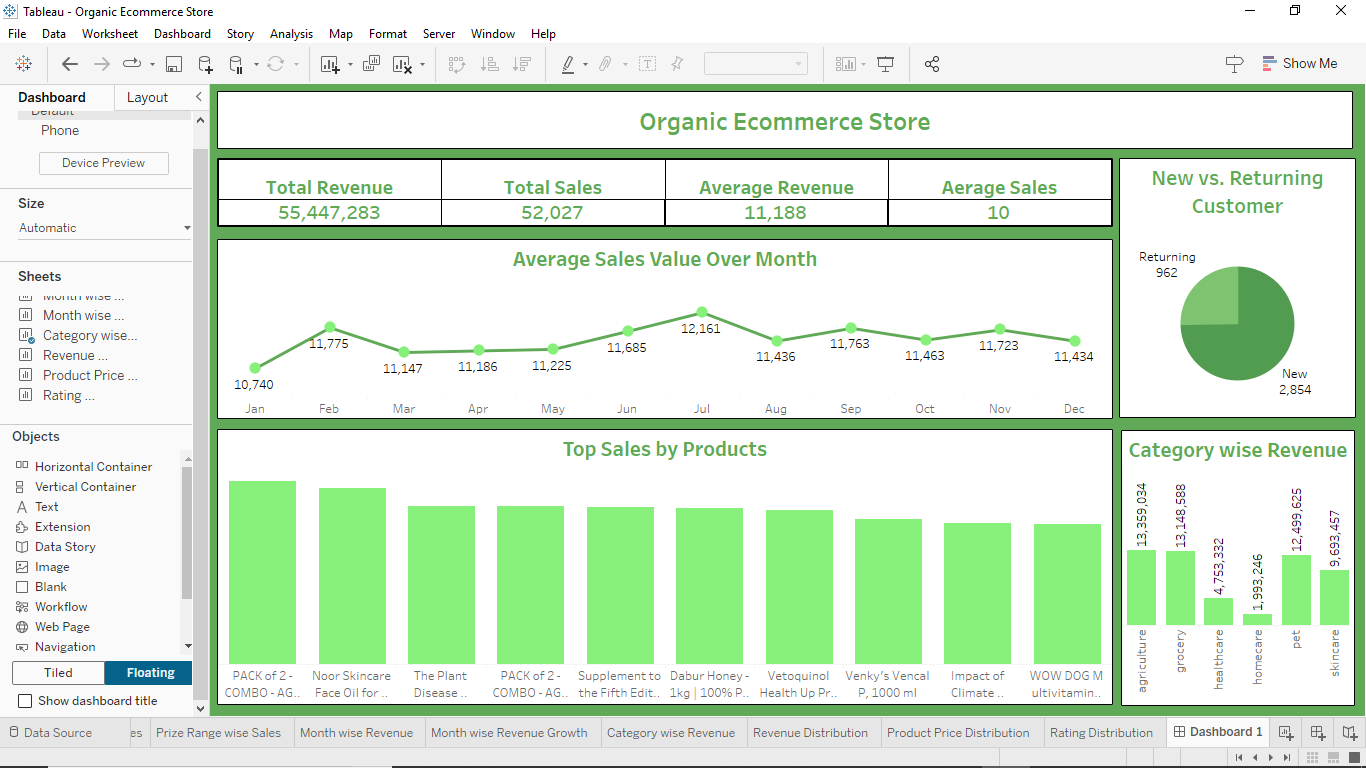

Layout of this report page (visuals, bound fields, positions):
{"tool":"powerbi","page":{"name":"Page 1","canvas":[1280,720],"ordinal":0},"visuals":[{"type":"textbox","box":[10.5,9.2,1258.7,81.5],"z":0},{"type":"card","fields":{"Values":["Sum(sales_data.revenue)"]},"box":[11,104.6,196.8,118.4],"z":1000},{"type":"card","fields":{"Values":["Sum(sales_data.quantity_sold)"]},"box":[225.7,104.6,196.8,118.4],"z":2000},{"type":"card","fields":{"Values":["Avg(sales_data.quantity_sold)"]},"box":[659.3,104.6,196.8,118.4],"z":3000},{"type":"card","fields":{"Values":["Avg(sales_data.revenue)"]},"box":[443.2,104.6,196.8,118.4],"z":4000},{"type":"donutChart","title":"New vs. Returning Customer","fields":{"Y":["Sum(customer_type.order_count)"],"Category":["customer_type.customer_type"]},"box":[878.1,106,392.3,236.7],"z":5000},{"type":"lineChart","title":"Average Sales Value Over Month","fields":{"Category":["sales_data.date.Variation.Date Hierarchy.Month"],"Y":["Avg(sales_data.quantity_sold)"]},"box":[11,234,845.1,239.5],"z":6000},{"type":"hundredPercentStackedColumnChart","title":"Top Sales By Product","fields":{"Y":["Sum(sales_data.quantity_sold)"],"Category":["product_data.product_name"]},"box":[878.6,360,390,341.4],"z":7000},{"type":"barChart","title":"Category Wise Revenue","fields":{"Category":["sales_data.category"],"Y":["Sum(sales_data.revenue)"]},"box":[11.4,487.1,844.3,214.3],"z":8000}]}

Visuals, with their boxes on the page's 1280x720 design canvas (x1, y1, x2, y2). These are canvas units, not pixel positions in the 1366x768 screenshot, which may show the page scaled, cropped or inside an application window:
textbox: rect(10, 9, 1269, 91)
card - Sum(sales_data.revenue): rect(11, 105, 208, 223)
card - Sum(sales_data.quantity_sold): rect(226, 105, 422, 223)
card - Avg(sales_data.quantity_sold): rect(659, 105, 856, 223)
card - Avg(sales_data.revenue): rect(443, 105, 640, 223)
"New vs. Returning Customer" donutChart: rect(878, 106, 1270, 343)
"Average Sales Value Over Month" lineChart: rect(11, 234, 856, 474)
"Top Sales By Product" hundredPercentStackedColumnChart: rect(879, 360, 1269, 701)
"Category Wise Revenue" barChart: rect(11, 487, 856, 701)
